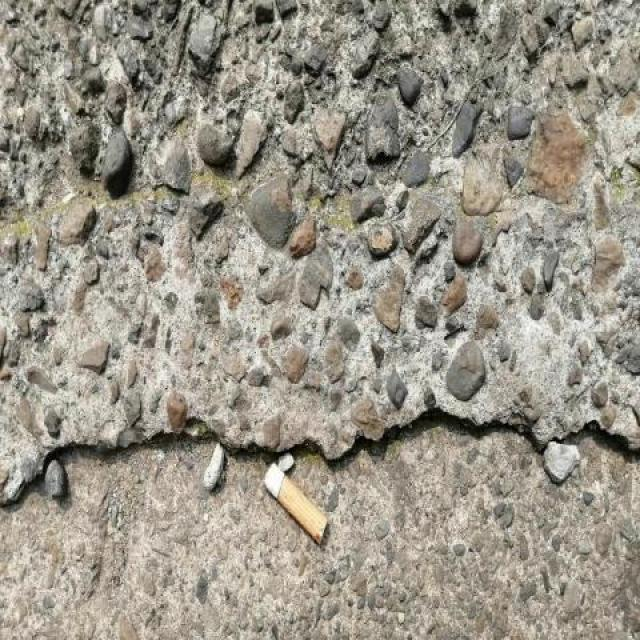non-organic waste: (260, 457, 332, 548)
